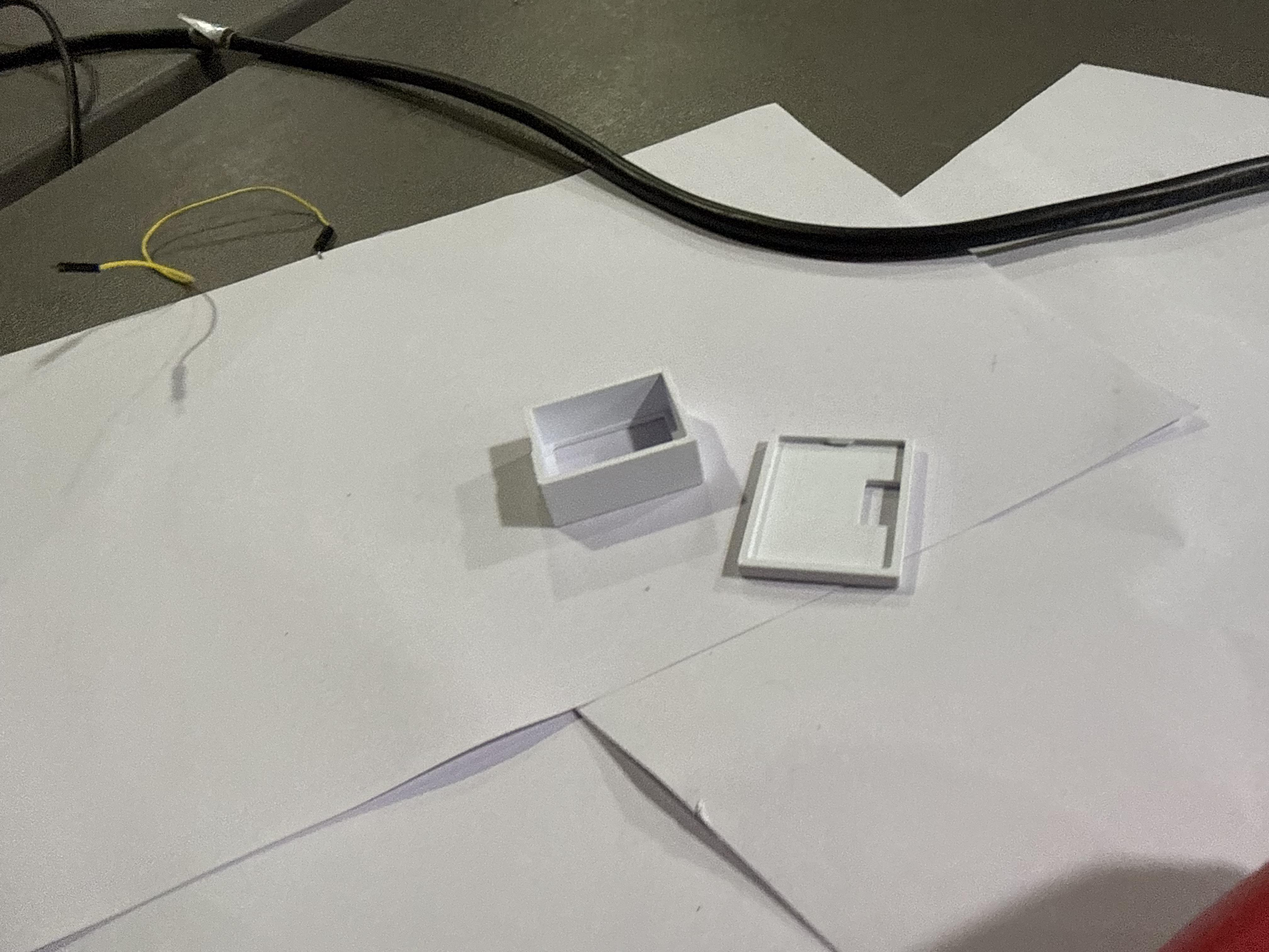enclosure: (727, 420, 920, 588), (527, 369, 706, 530)
